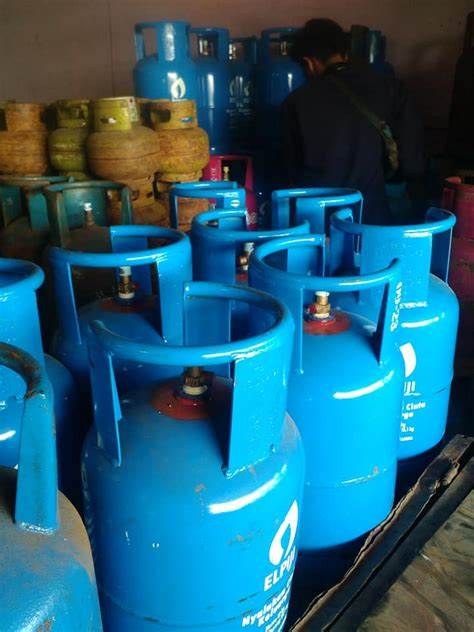blue_gas: (88, 279, 300, 632), (249, 233, 399, 558), (329, 206, 459, 462), (1, 337, 103, 632), (51, 223, 192, 388), (1, 256, 75, 474), (196, 207, 312, 315), (7, 178, 130, 277), (177, 180, 248, 254), (135, 20, 195, 101), (192, 24, 229, 155), (258, 26, 305, 111), (229, 27, 254, 131)
gas_ijo: (91, 94, 161, 182), (143, 95, 209, 181), (1, 99, 55, 189), (52, 94, 93, 181)
